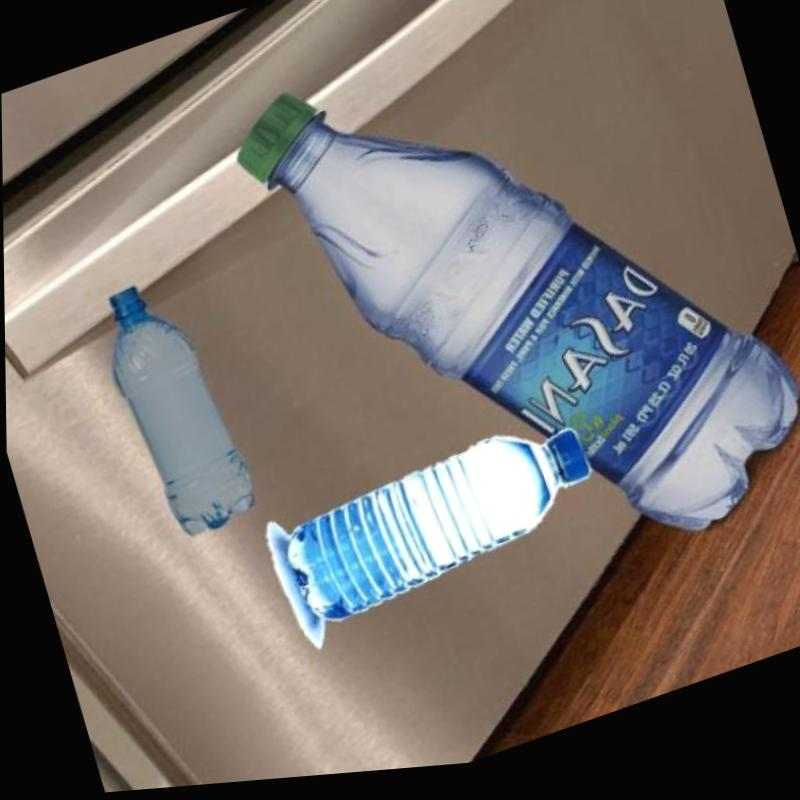botella: (220, 0, 800, 663), (271, 415, 607, 643), (89, 264, 261, 554)
